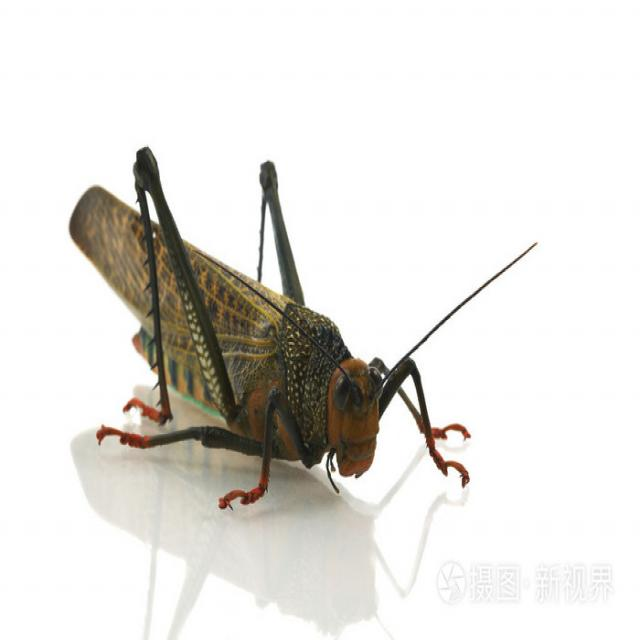ZhaMeng: (45, 108, 507, 535)
